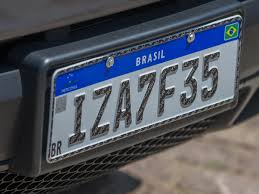car_plate: (22, 80, 242, 170)
